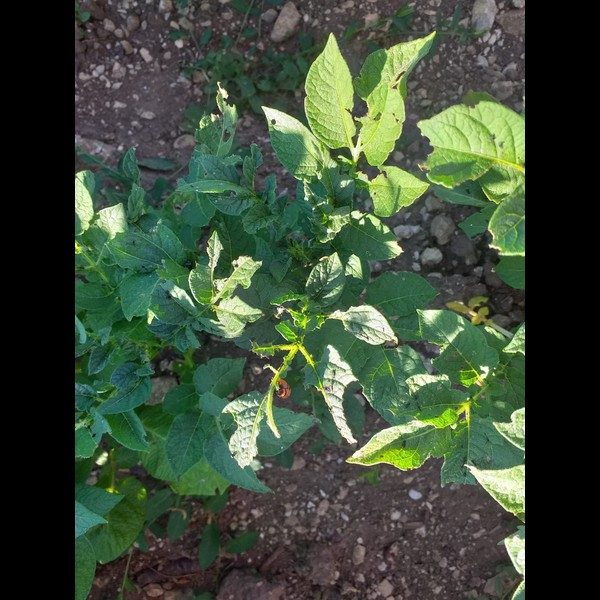hrosc: (272, 375, 293, 401)
